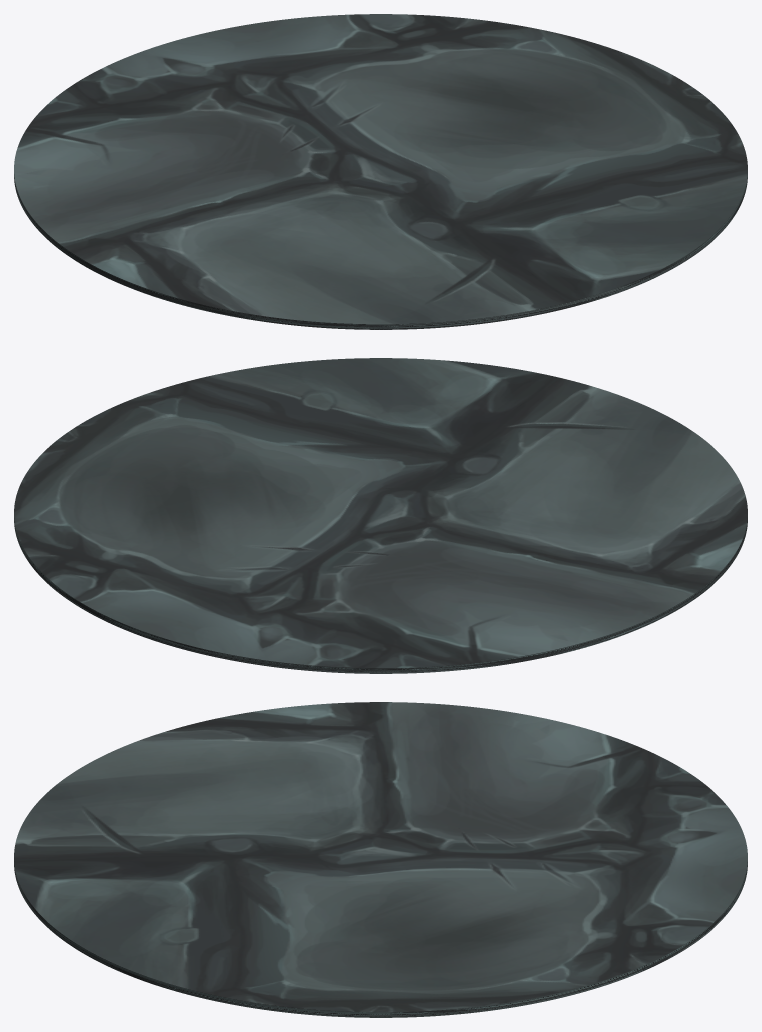
The model's file is stage_0011.fbx.
3 views of the same model, one above another, from view 1: azimuth 30°, elevation 25°; view 2: azimuth 150°, elevation 25°; view 3: azimuth 270°, elevation 25° (orthographic).
Parts seen in each view (by area): view 1: Cylinder; view 2: Cylinder; view 3: Cylinder.
Part boxes in pixels (box(x1,y1,x2,y2)): Cylinder: box(14, 14, 747, 329); Cylinder: box(14, 358, 747, 673); Cylinder: box(14, 702, 747, 1017).
Size of the model in its own units: 2962 by 25 by 2962.
